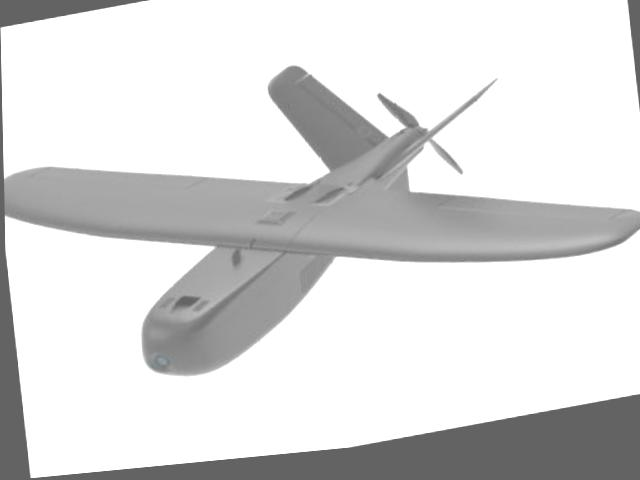uav: (1, 14, 640, 408)
